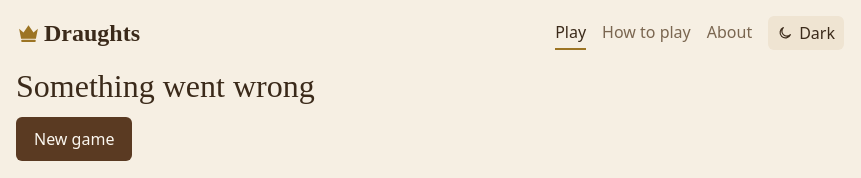
it: the page error boundary › New game clears the saved game and draws the page again
Click the button "New game" at (74, 139), box left=16, top=117, right=132, bottom=161
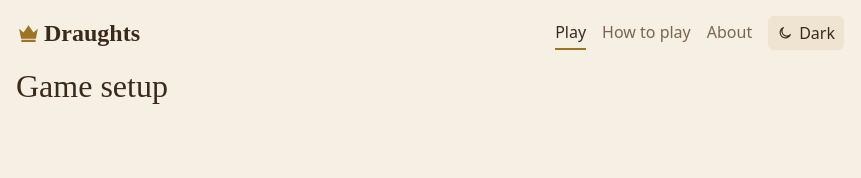
Now the heading "Game setup" is shown, box left=16, top=68, right=168, bottom=104
